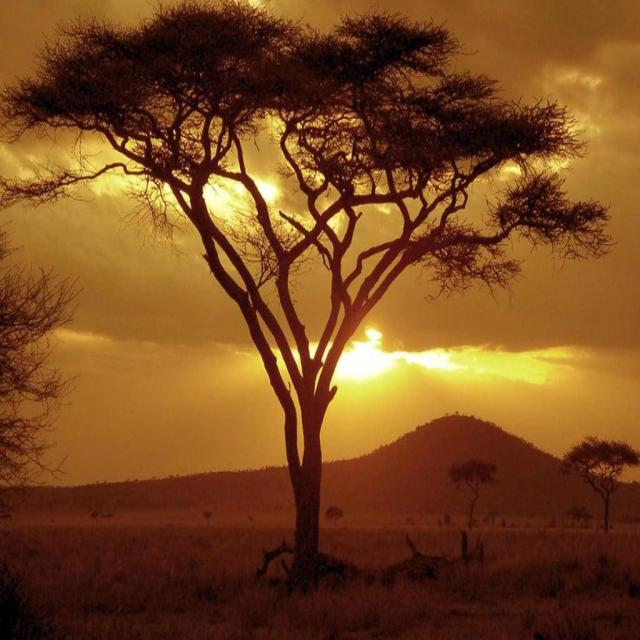Acacia: (8, 12, 600, 548)
